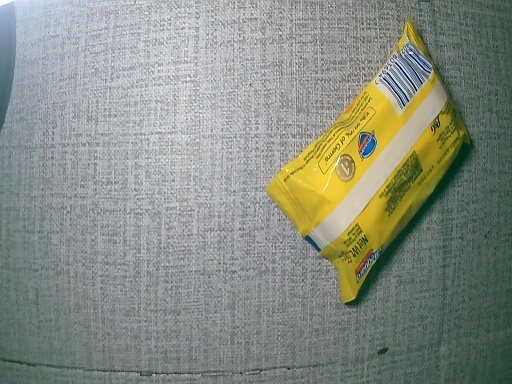plastic: (263, 26, 473, 305)
